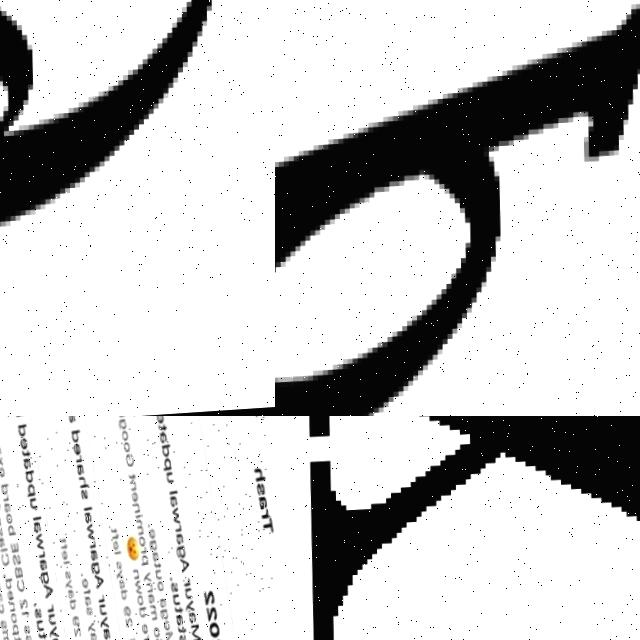0: (205, 628, 216, 640)
1: (19, 615, 27, 623)
2: (202, 612, 214, 627), (200, 597, 212, 612), (16, 602, 26, 614), (121, 621, 129, 632), (70, 631, 78, 640)
6: (0, 0, 237, 272)
9: (68, 620, 77, 631), (120, 610, 128, 621)
D: (275, 0, 640, 416)
X: (289, 416, 640, 640)
